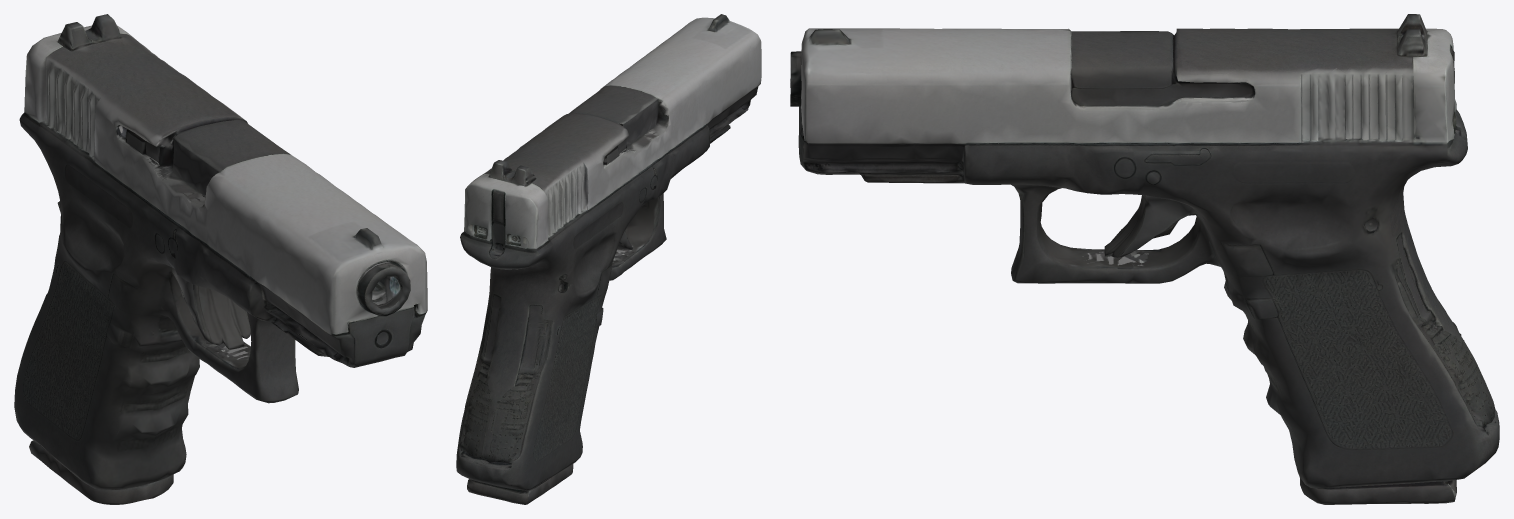
Rendered from Pistol.glb.
3 views of the same model, side by side, from view 1: azimuth 30°, elevation 25°; view 2: azimuth 150°, elevation 25°; view 3: azimuth 270°, elevation 25° (orthographic). The views are drawn at different scales.
Visible parts, largest first — view 1: texture_mapping; view 2: texture_mapping; view 3: texture_mapping.
Part boxes in pixels (box(x1,y1,x2,y2)): texture_mapping: box(14, 14, 427, 504); texture_mapping: box(456, 14, 761, 504); texture_mapping: box(790, 14, 1499, 504).
Bounding box in the file's own units: 0.1991 × 0.7211 × 1.
Materials: 1 (1 with a texture image).
